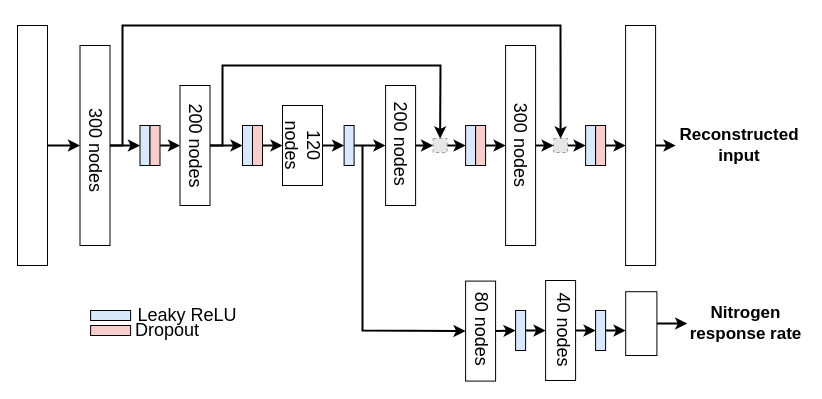
Image size: 822x399. Some labels were removed from this diagram. Grey dashed boxes stand in for pictures. Each missing label, with the box of its shape:
1 node: (625, 291, 657, 356)
425 nodes: (625, 24, 656, 266)
Input 425: (16, 24, 48, 266)
